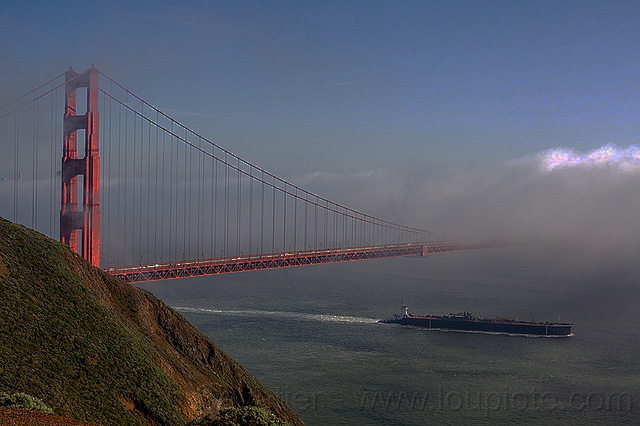tanker: (380, 305, 574, 341)
